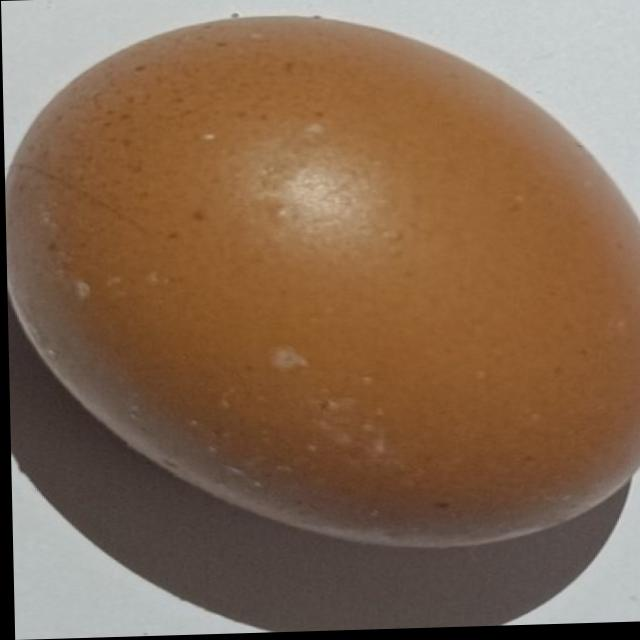unfresh: (0, 7, 640, 552)
